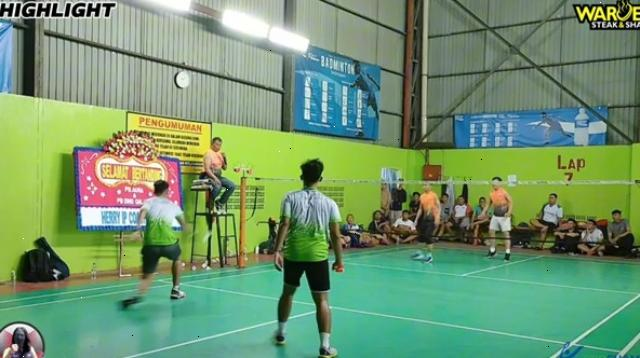Shuttlecock: (202, 230, 218, 244)
